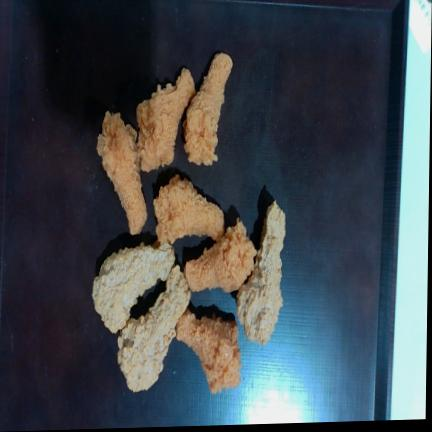chicken: (118, 266, 191, 392), (92, 243, 175, 332), (237, 201, 286, 344), (97, 111, 147, 234), (137, 68, 195, 171), (183, 53, 233, 165), (177, 309, 242, 393), (185, 218, 256, 292), (154, 175, 224, 244)
